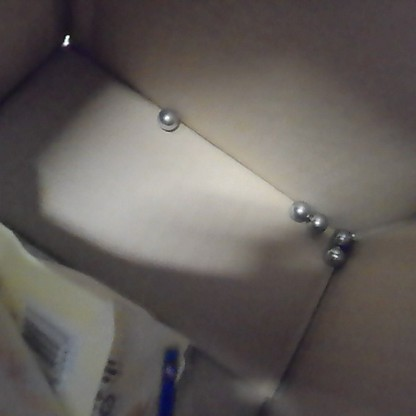ironball: (157, 100, 183, 135), (301, 205, 327, 234), (283, 196, 307, 224), (324, 242, 347, 269), (332, 224, 356, 245)
